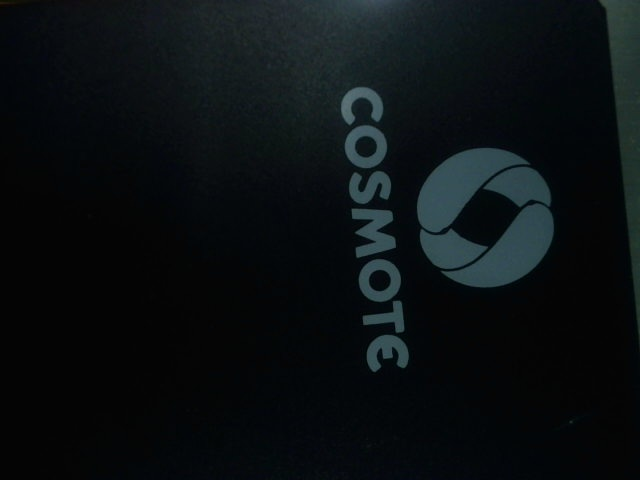AU_COSMOTE: (301, 82, 579, 371)
